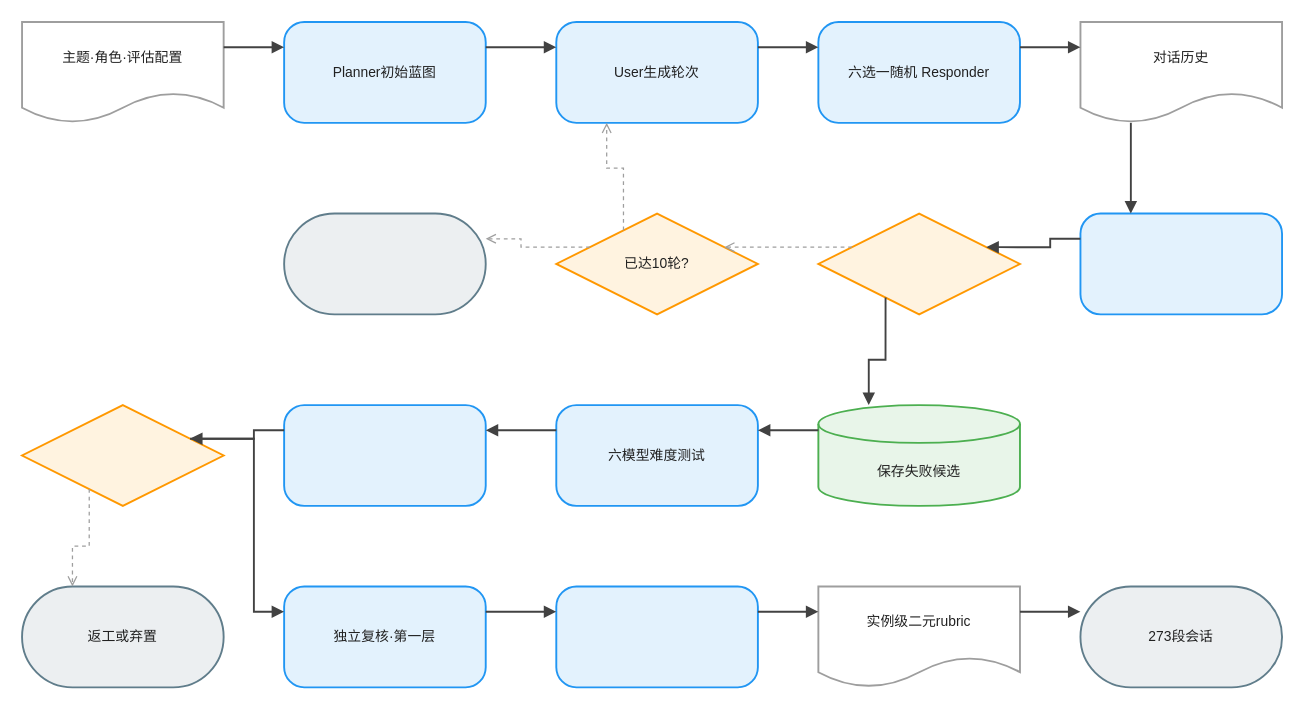
Image size: 1305x711. Some labels were removed from this diagram. Here are the shapes that lost their labels. From the top down, the centre of each, then its label:
the point at 384,263: 丢弃未失败会话
the point at 918,263: 检测到目标失败?
the point at 1180,263: Planner更新蓝图
the point at 122,455: 至少3/6失败?
the point at 384,455: 人工三项审校
the point at 656,636: 独立复核·第二层
